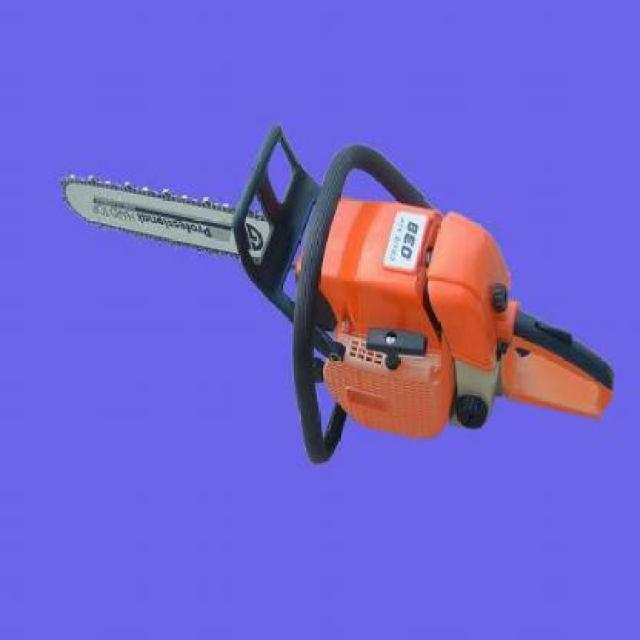Chainsaw: (57, 122, 618, 466)
